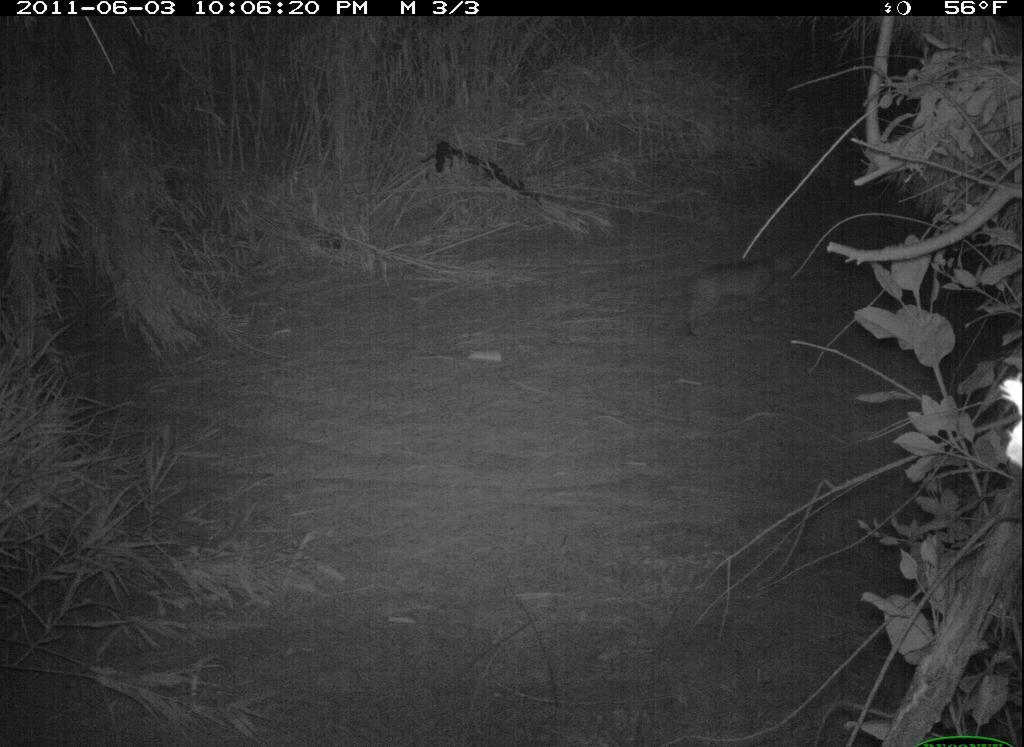bobcat: (671, 242, 815, 353)
